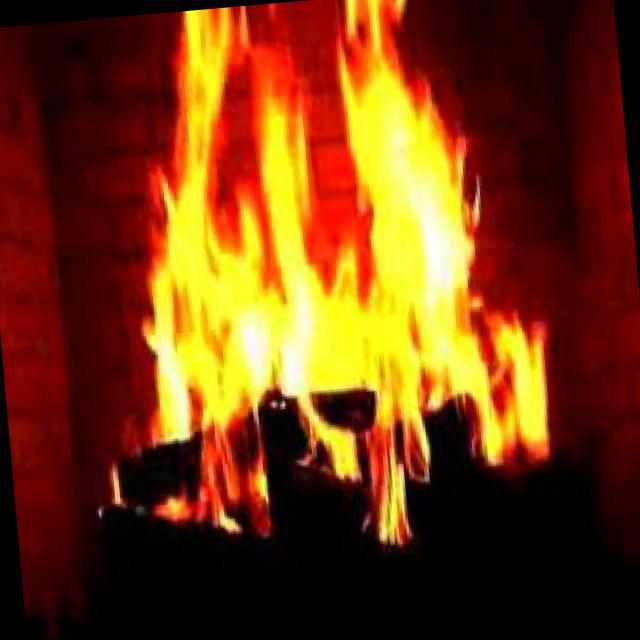Fire: (39, 0, 570, 572)
